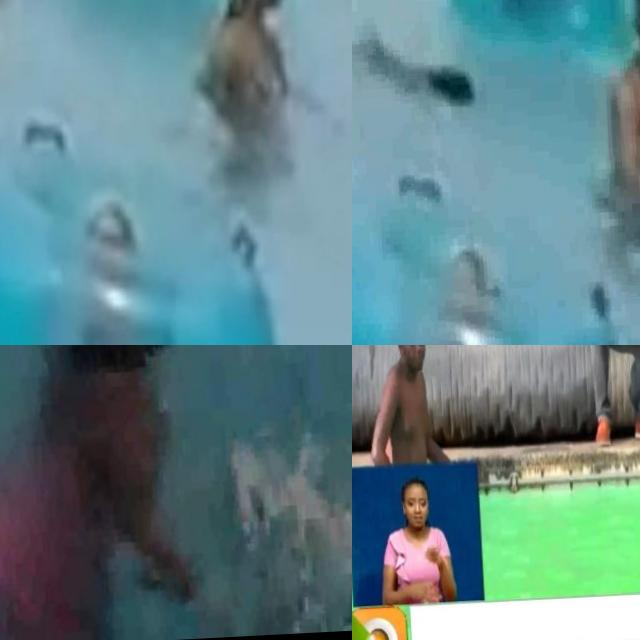drowning: (0, 345, 198, 610), (352, 0, 488, 133)
out of water: (549, 345, 640, 455)
swimming: (163, 0, 319, 148), (588, 0, 640, 209), (357, 345, 442, 464)
